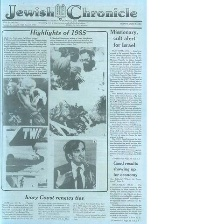news_paper: (0, 0, 149, 224)
